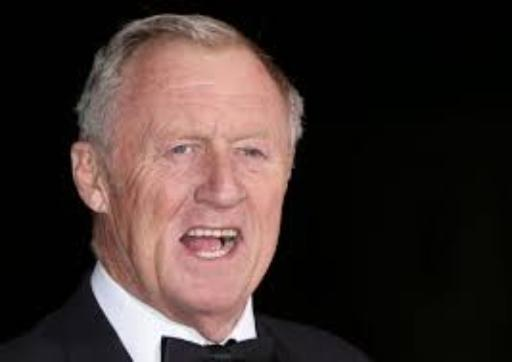left_eye: (234, 144, 269, 163)
left_lip_corner: (233, 231, 252, 247)
right_eye: (165, 143, 204, 158)
right_lip_corner: (174, 231, 191, 250)
